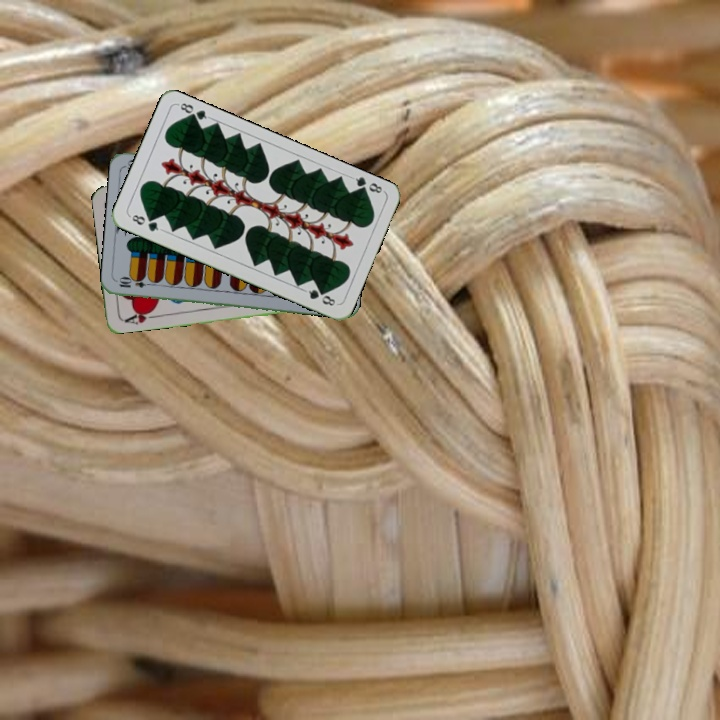E10: (115, 276, 156, 290)
G8: (348, 172, 386, 197), (126, 210, 165, 234)
HA: (121, 305, 160, 327)
